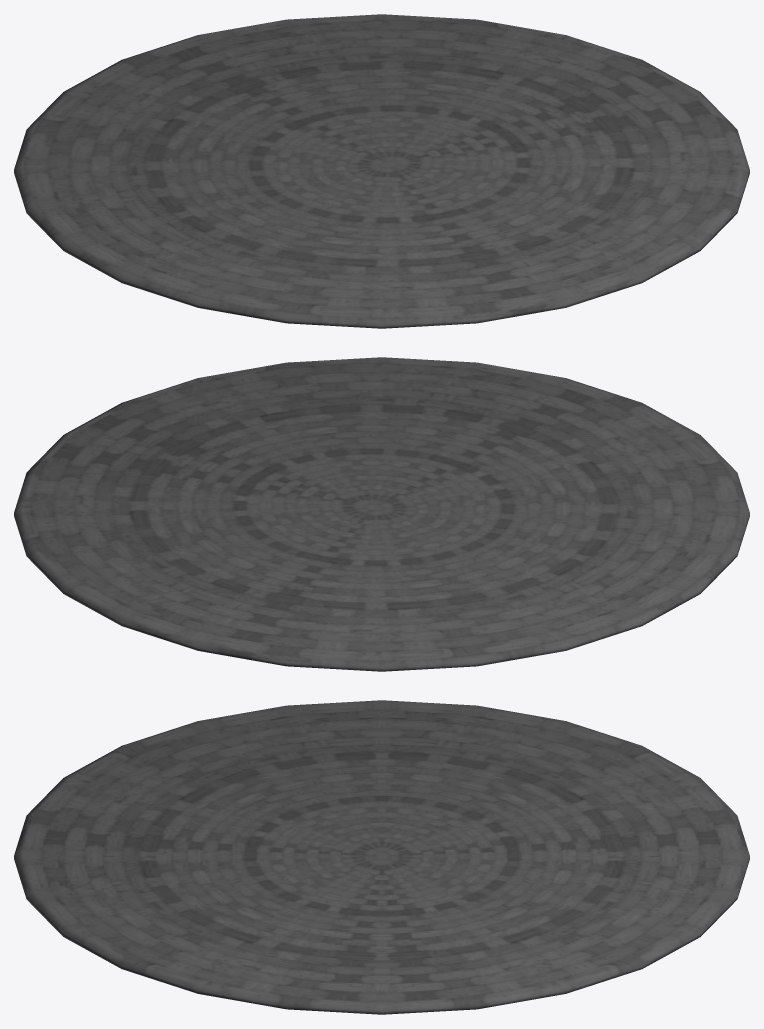
File: GardenTableWear01_14.FBX
3 views of the same model, one above another, from view 1: azimuth 30°, elevation 25°; view 2: azimuth 150°, elevation 25°; view 3: azimuth 270°, elevation 25° (orthographic).
Parts seen in each view (by area): view 1: GardenTableWear01_14; view 2: GardenTableWear01_14; view 3: GardenTableWear01_14.
Boxes of the visible parts, left/top/right/bottom form: GardenTableWear01_14: left=14, top=14, right=749, bottom=328; GardenTableWear01_14: left=14, top=357, right=749, bottom=671; GardenTableWear01_14: left=14, top=700, right=749, bottom=1014.
Size of what is drawn, in the model's own units: 0.4571 by 0.00704 by 0.4571.
